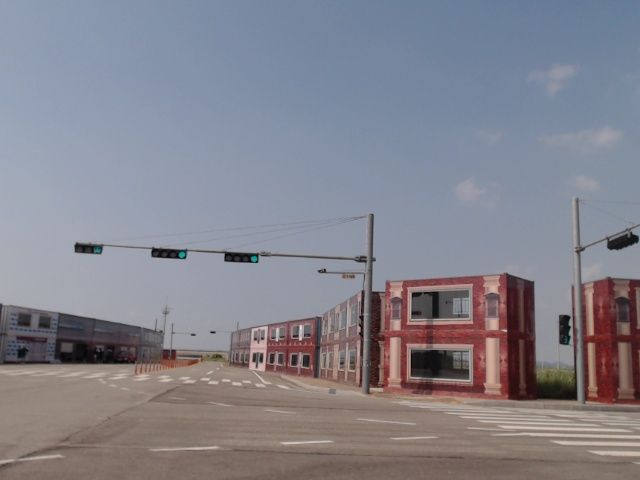straight_green_4: (152, 246, 187, 261), (225, 251, 260, 264)
